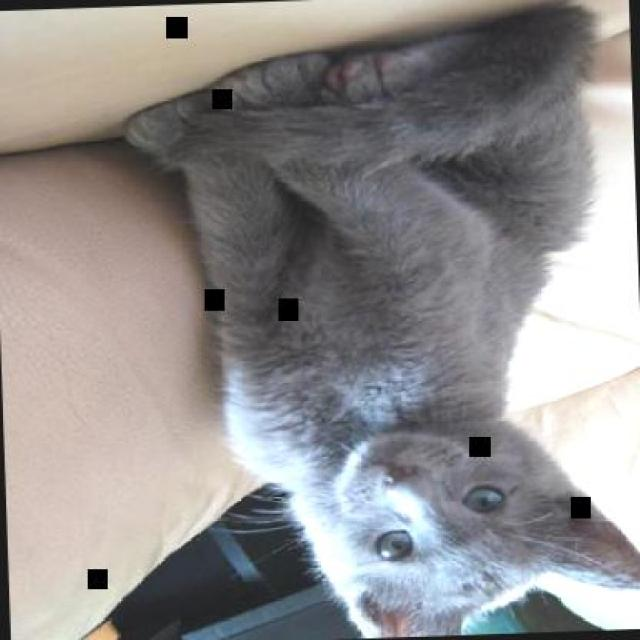cat: (124, 11, 638, 638)
